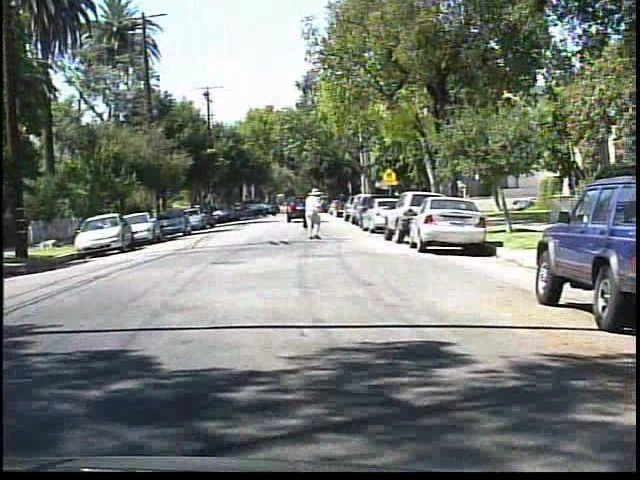person: (298, 186, 330, 242)
